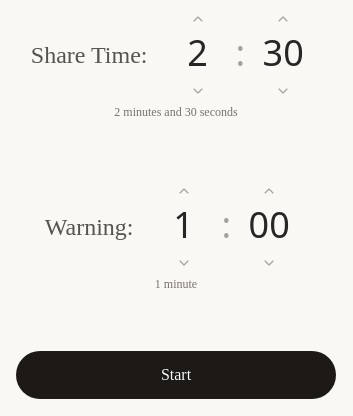
App › setup › disables Start until the main timer has time on it
The width and height of the screenshot is (353, 416).
Clear the 1st field named "Minutes" at point(198, 53), box [164,33,232,73]
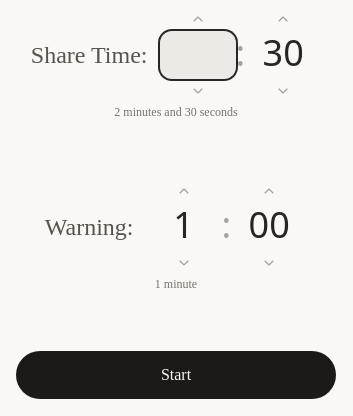
Clear the 2nd field named "Seconds" at point(283, 53), box [249,33,317,73]
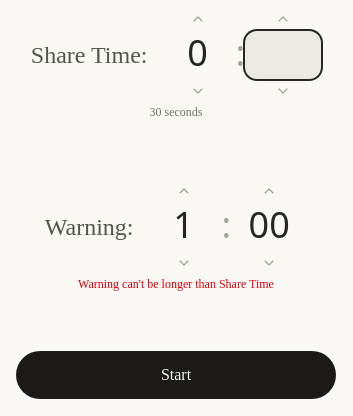
Clear the 3rd field named "Minutes" at point(184, 225), box [150,205,218,245]
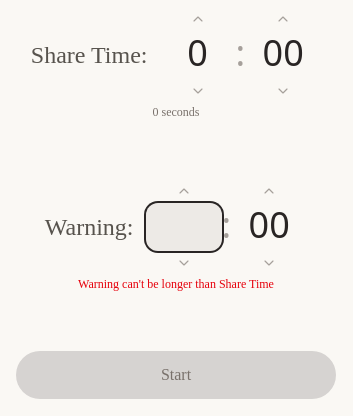
Clear the 4th field named "Seconds" at point(269, 225), box [235,205,303,245]
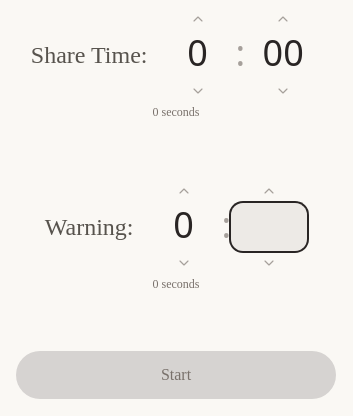
Press Tab
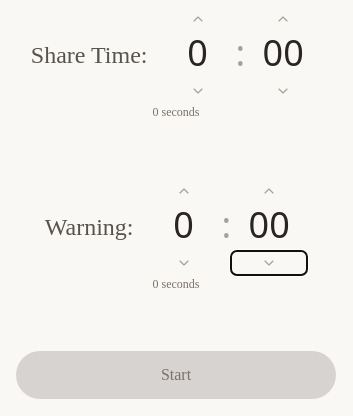
Result: the 1st field named "Minutes" holds "0"
Result: the 2nd field named "Seconds" holds "00" at [249,33,317,73]
Result: the 3rd field named "Minutes" holds "0" at [150,205,218,245]
Type "99" into the 1st field named "Minutes".
click(198, 53); type("99")  # box [164,33,232,73]
Then press Enter
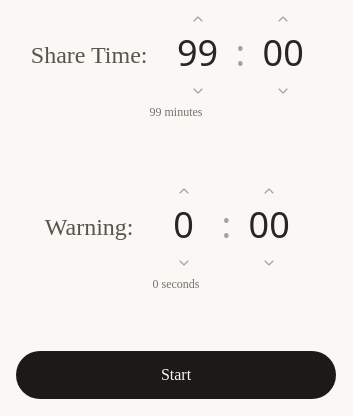
Result: the button "Start" is enabled at [16,351,336,399]
